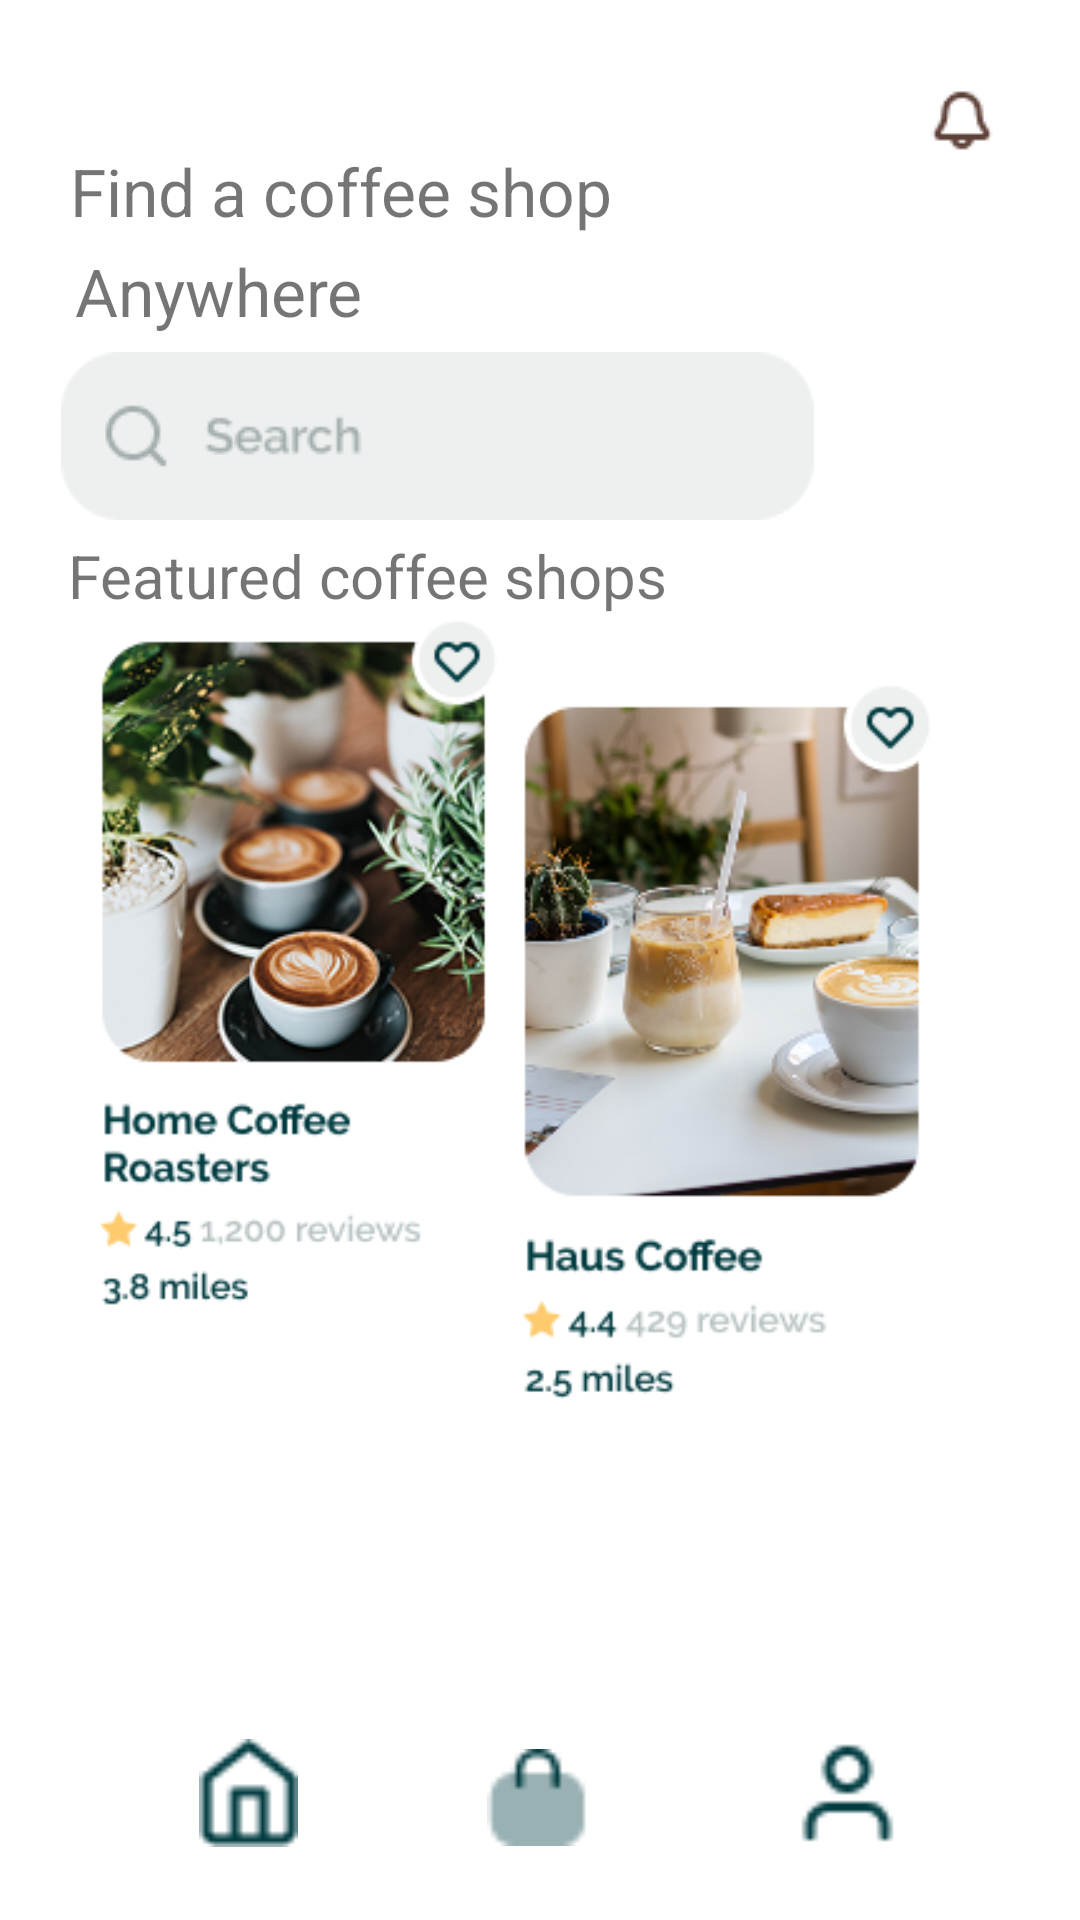

Icons on this 1080px x 1920px Android screen, each with the point to tap as [x,y]:
bag: [536,1797]
lonceng: [962,120]
user: [847,1793]
